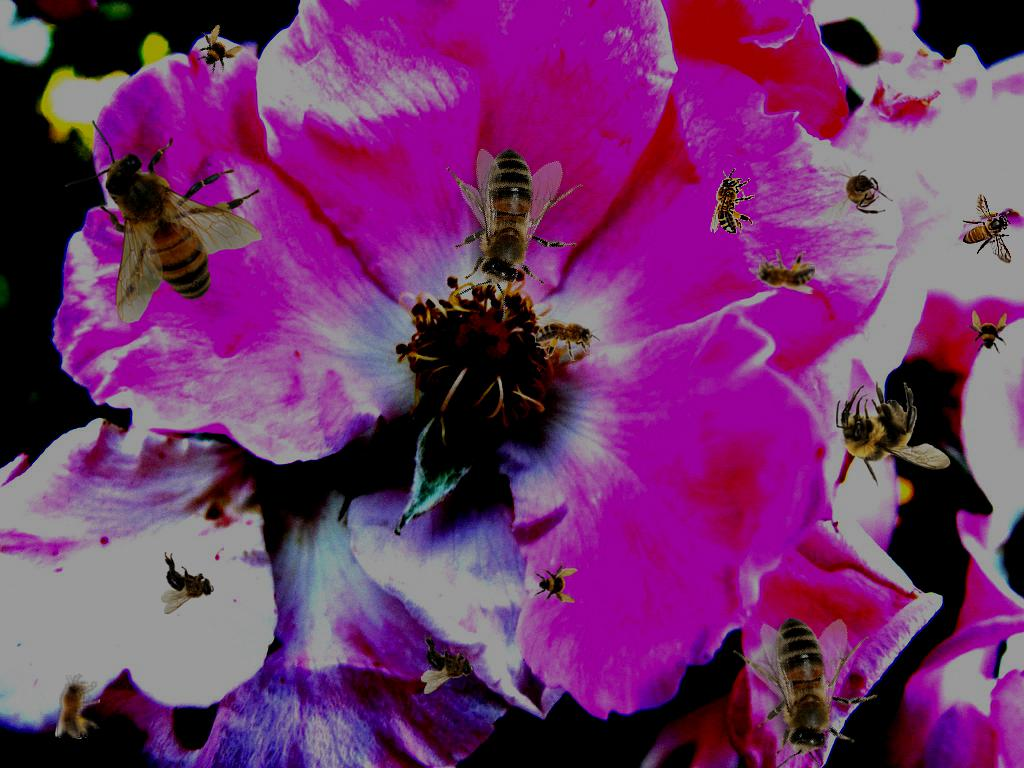Bee: (397, 114, 622, 338), (691, 576, 924, 768), (63, 120, 262, 324), (836, 381, 951, 488), (823, 160, 893, 221), (185, 19, 247, 81), (962, 193, 1012, 264), (161, 552, 214, 614), (421, 632, 474, 694), (710, 168, 755, 234), (55, 673, 100, 739), (749, 249, 815, 294), (535, 316, 601, 361), (534, 561, 578, 605), (965, 310, 1009, 354)
